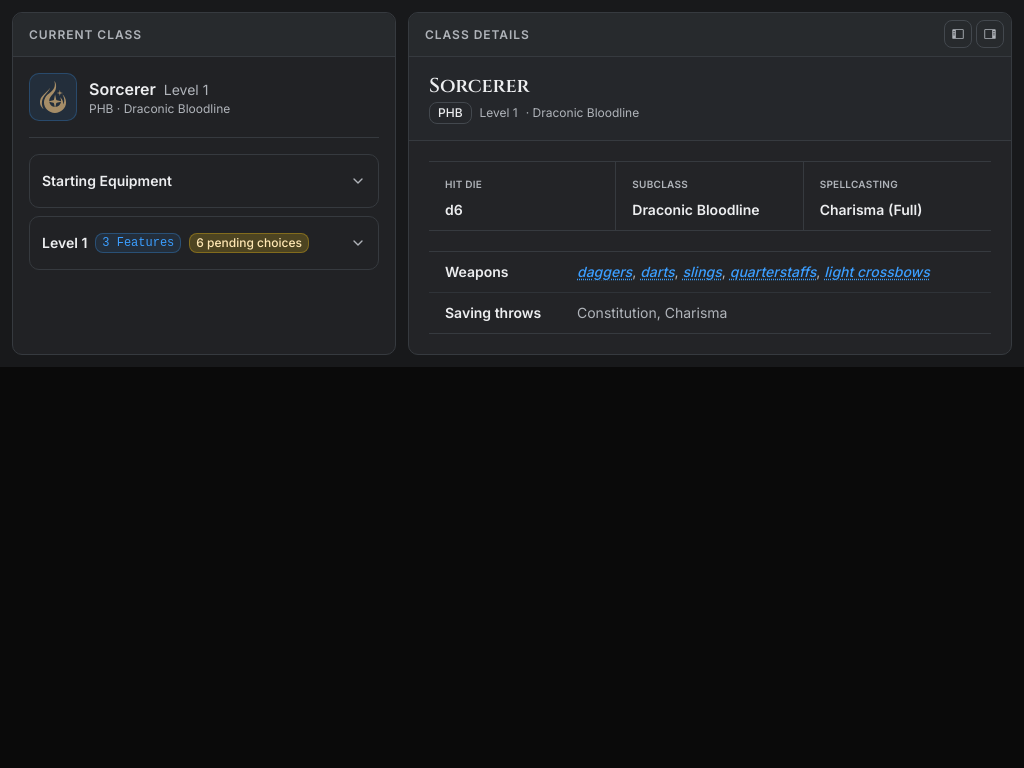
Scenario: strictly reopened ancestry preserves unchanged confirmation and immediately reopens the saved selection
This screenshot has width=1024, height=768.
Click the button "Level 1 3 Features 6 pending choices" at (204, 243), box x1=30 y1=217 x2=378 y2=269
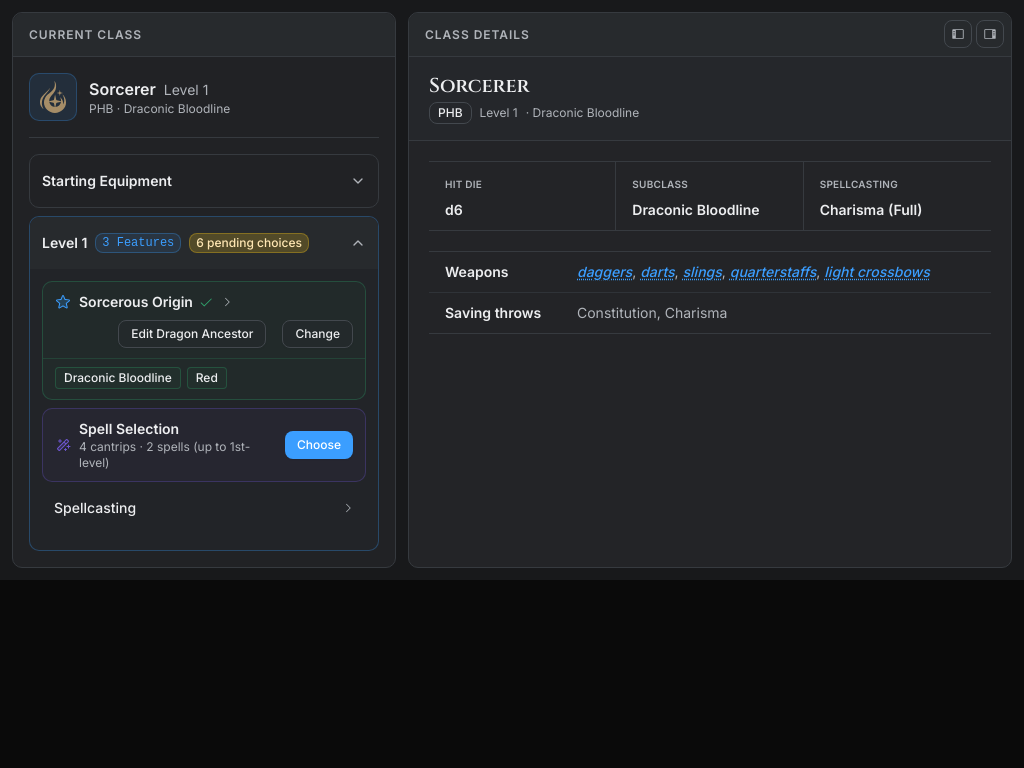
Click the button "Edit Dragon Ancestor" at (192, 334), box x1=118 y1=320 x2=266 y2=348
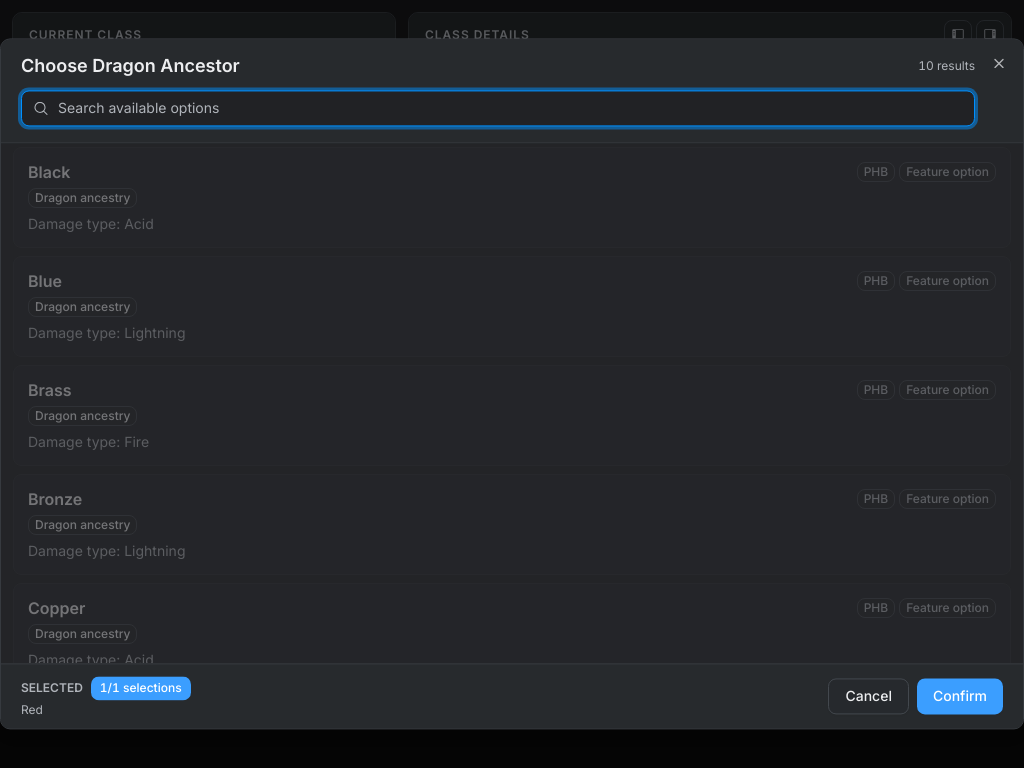
Result: the dialog is shown
Click the button "Confirm" at (960, 697), box x1=917 y1=679 x2=1003 y2=715
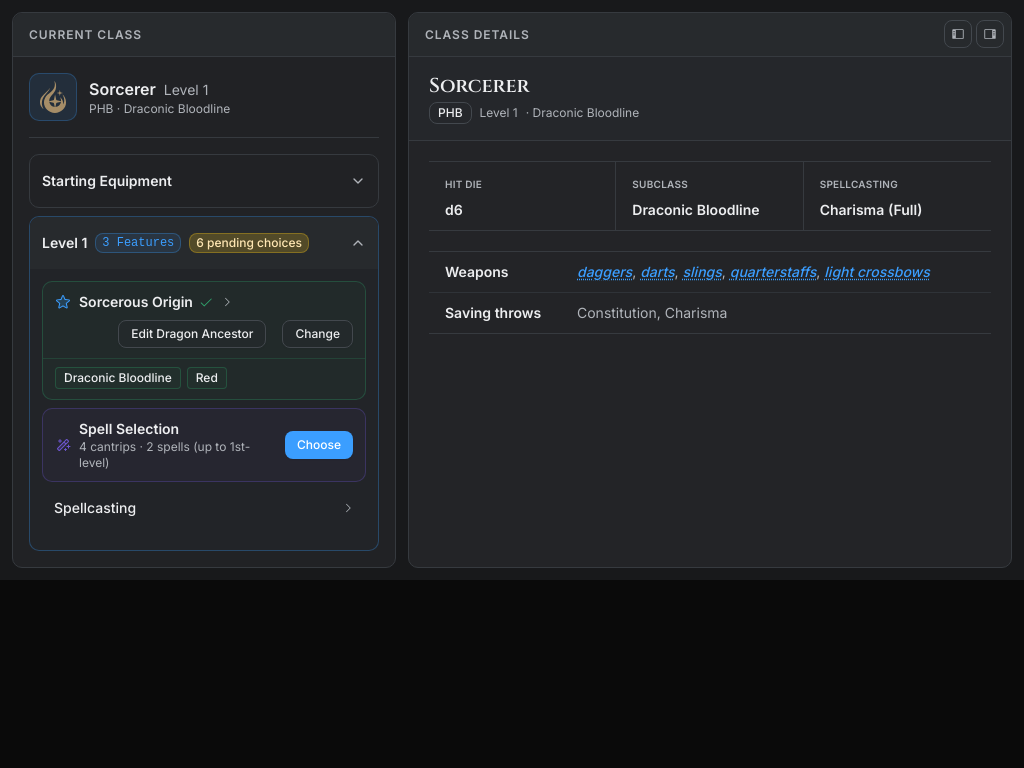
Result: the dialog is gone
Click the button "Edit Dragon Ancestor" at (192, 334), box x1=118 y1=320 x2=266 y2=348
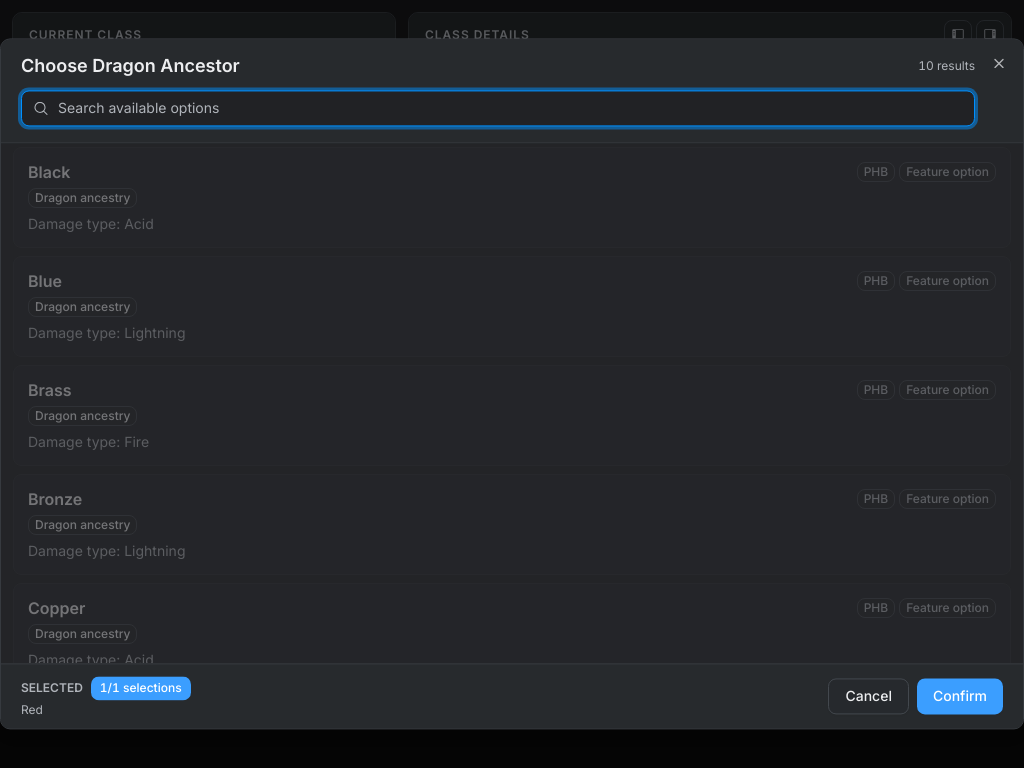
Result: the dialog is shown
Result: the heading "Choose Dragon Ancestor" is shown at x1=21 y1=55 x2=240 y2=78
Result: the text "1/1 selections" is shown at x1=91 y1=677 x2=191 y2=701
